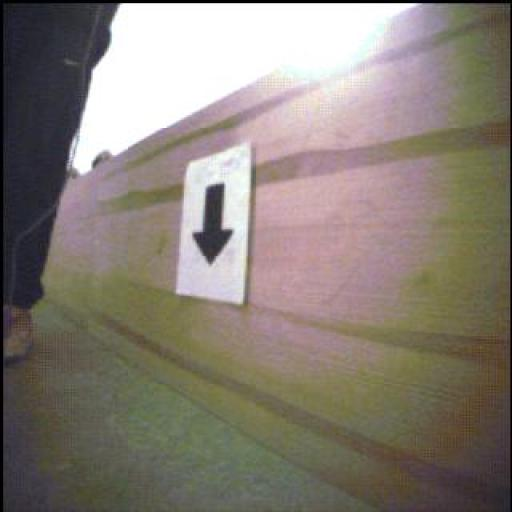arrow: (195, 185, 233, 265)
